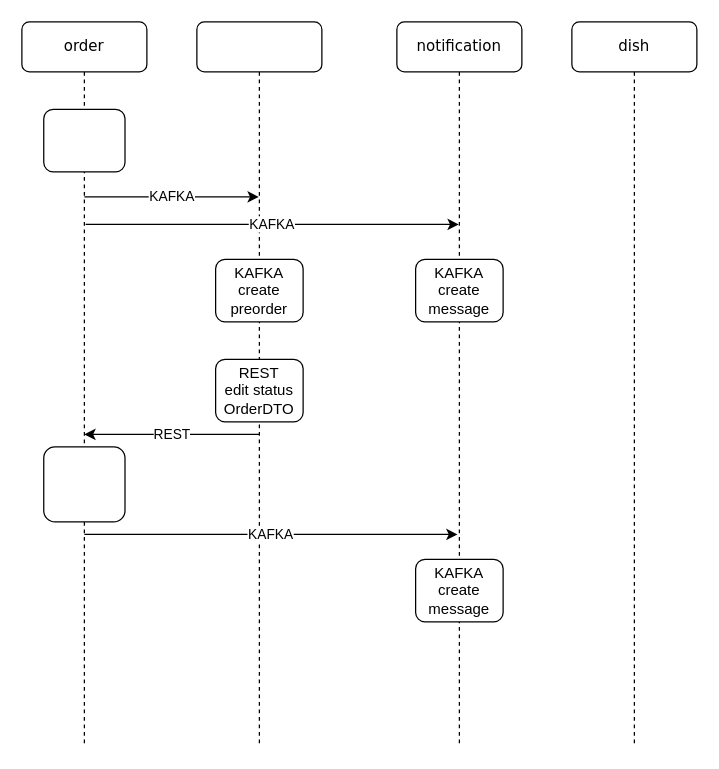
The diagram is 719 pixels wide and 769 high, and some of its shapes have lost their labels. The box of each missing label's shape, as (x1, y1, x2, y2) in pixels:
kithen: (196, 21, 322, 747)
REST create order: (42, 108, 125, 172)
REST update STATUS order: (42, 446, 125, 522)
